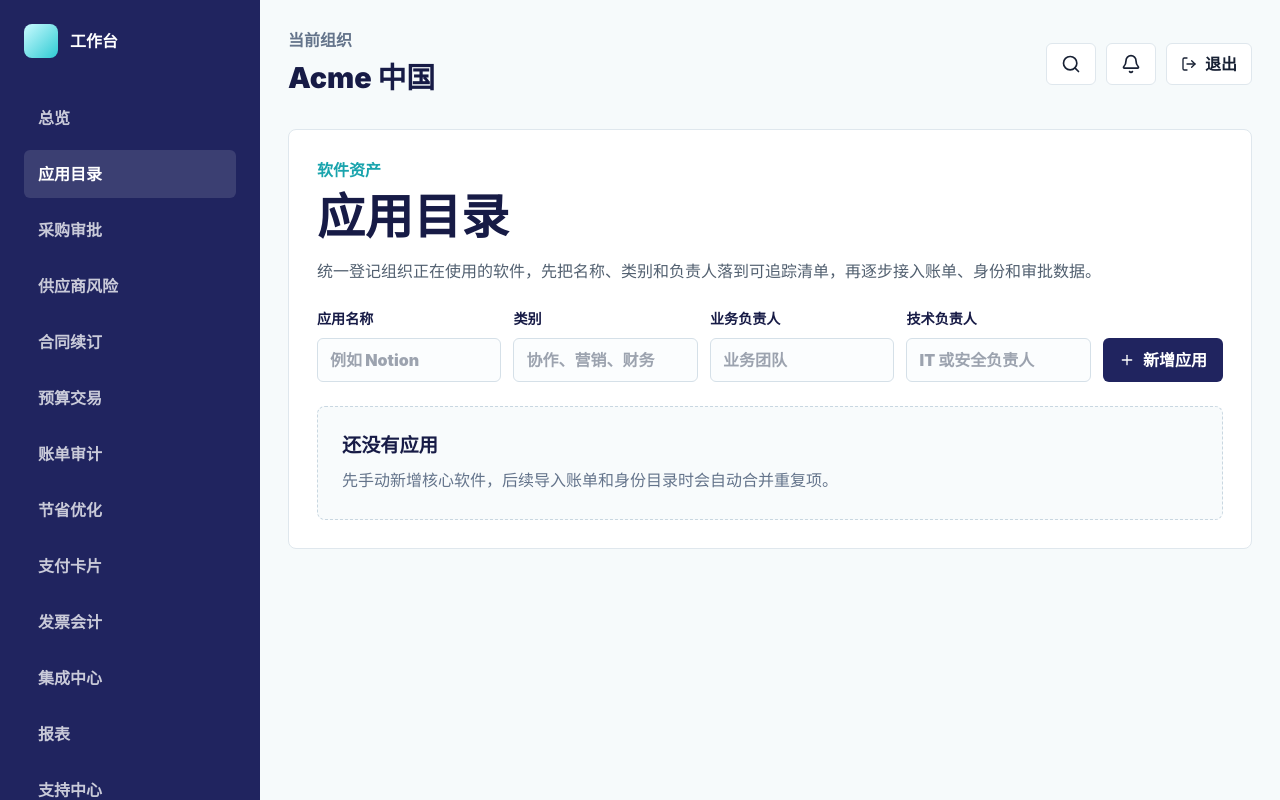
Test case: creates a manual application from the catalog form
The image size is (1280, 800).
Expected: the heading "应用目录" is shown, [317,187,509,246]
Step 1. Type "Notion" into the field labelled "应用名称" → {"x": 409, "y": 360}, box [317,338,502,382]
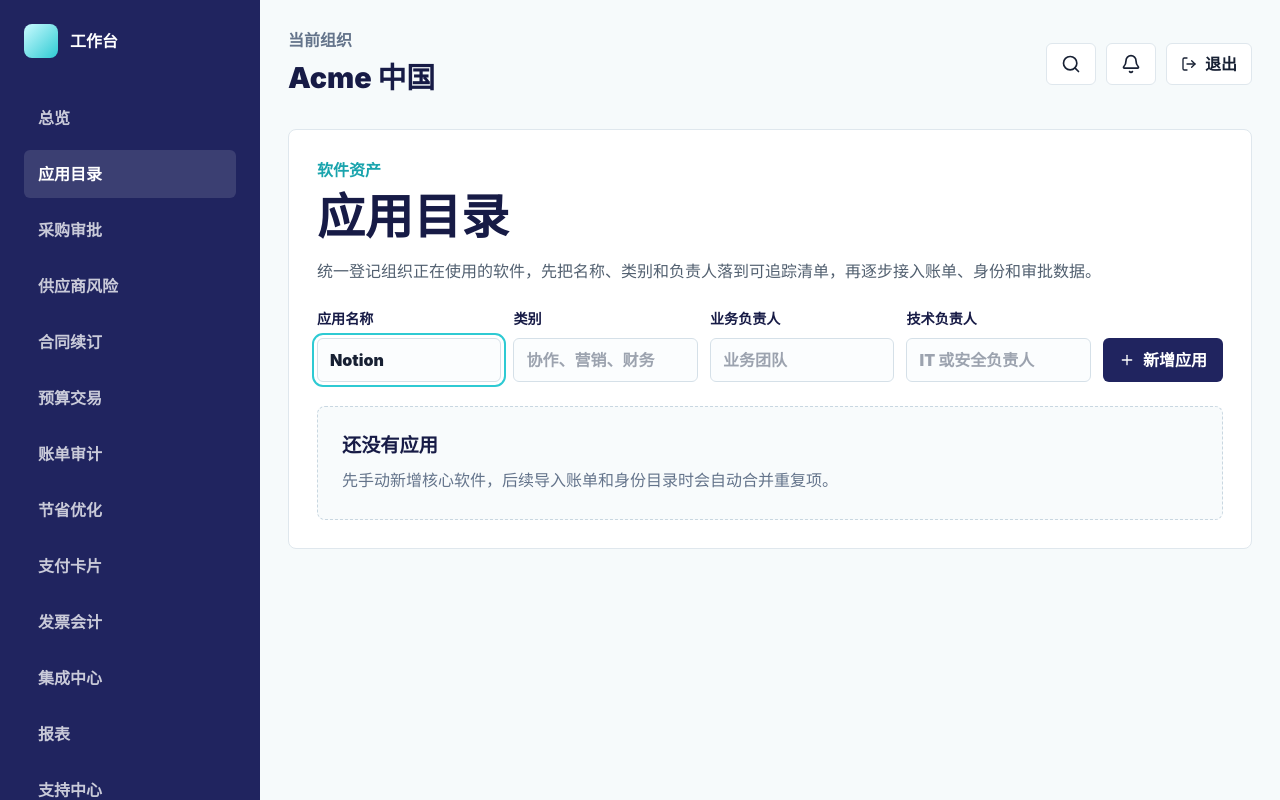
Step 2. Type "协作" into the field labelled "类别" → {"x": 606, "y": 360}, box [514,338,698,382]
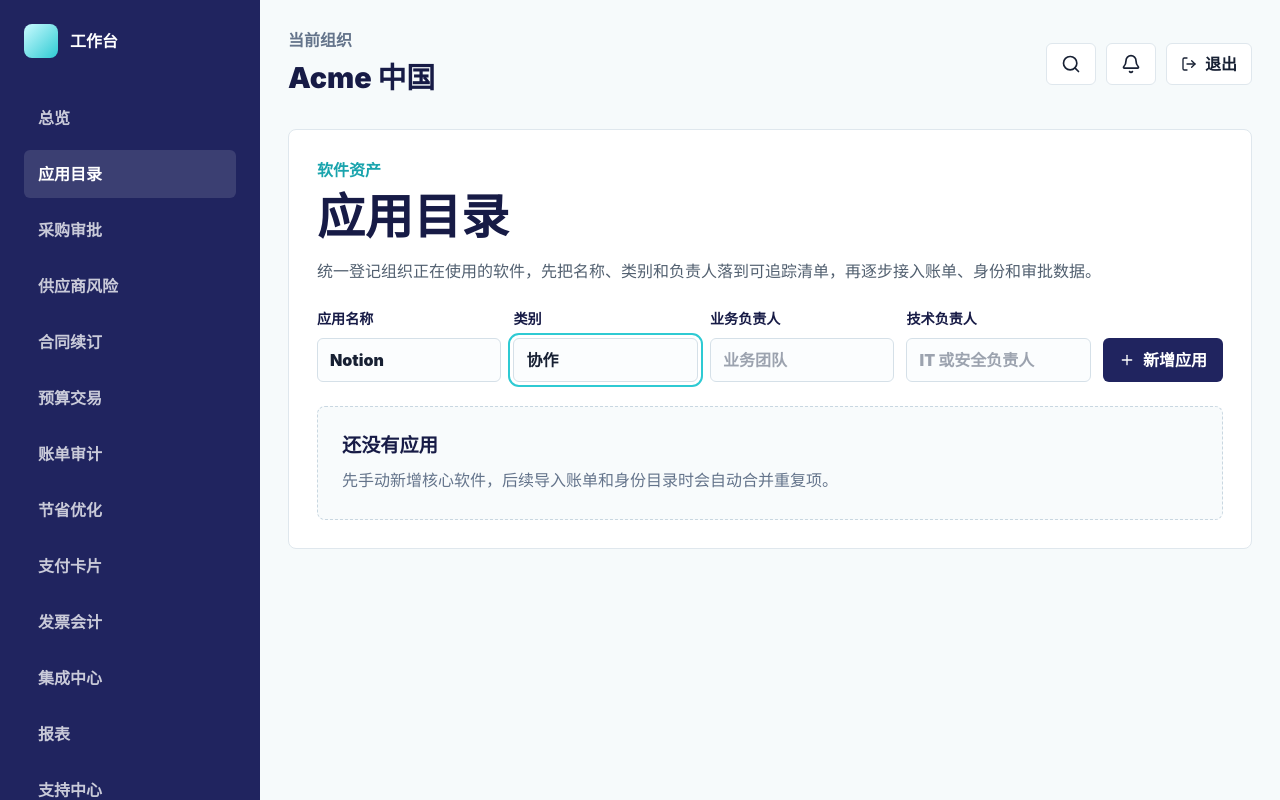
Step 3. Type "运营" into the field labelled "业务负责人" → {"x": 802, "y": 360}, box [710,338,894,382]
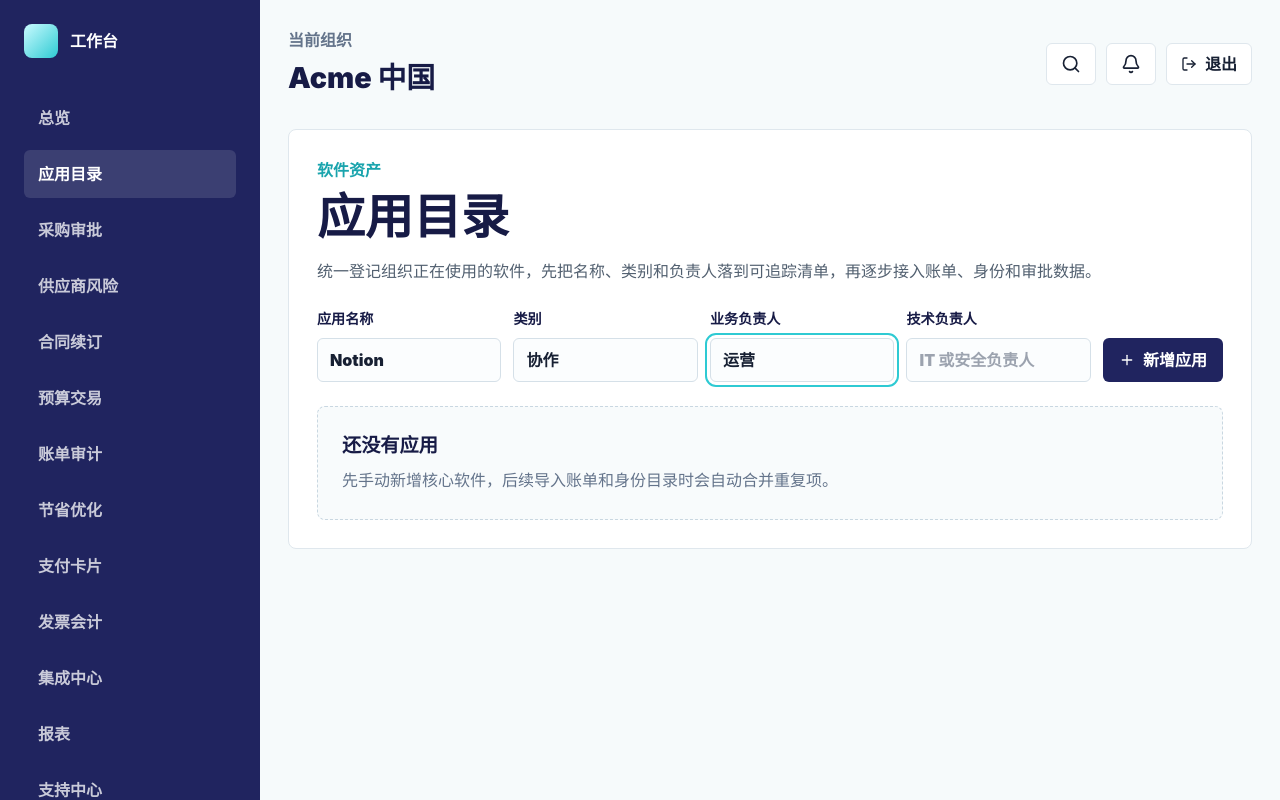
Step 4. Click the button "新增应用" → {"x": 1163, "y": 360}, box [1103,338,1223,382]
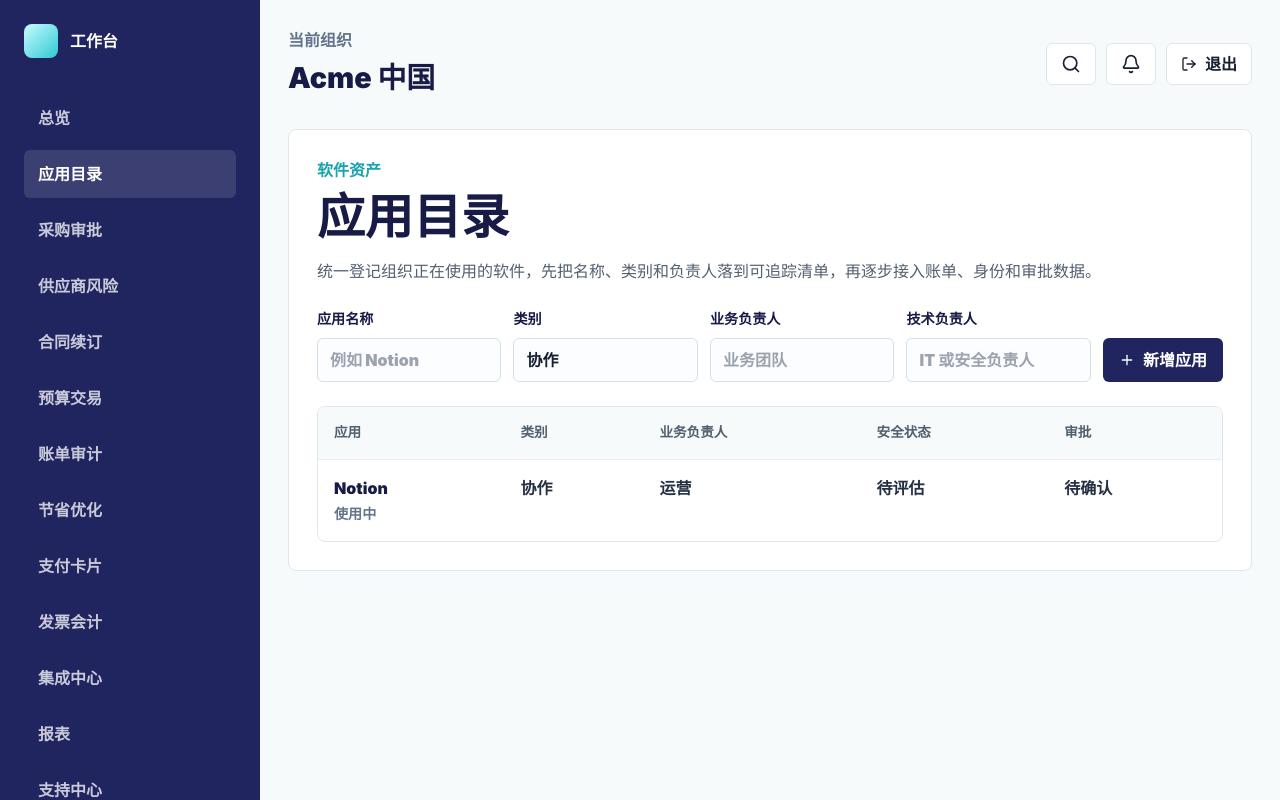
Result: the text "Notion" is shown at [334,478,388,498]
Result: the text "待评估" is shown at [861,460,1048,541]
